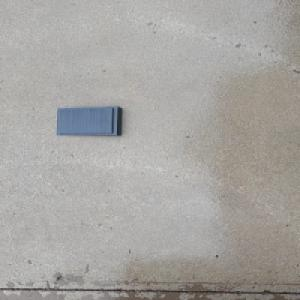PlasticPart: (55, 105, 123, 137)
